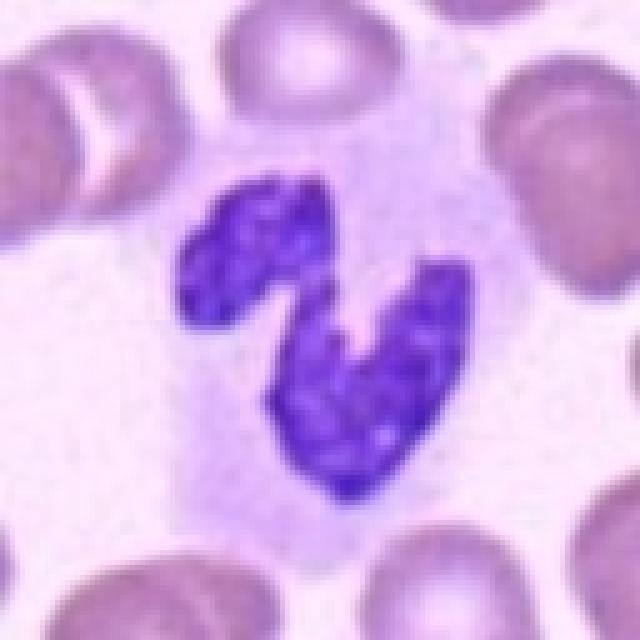neutro: (145, 88, 580, 567)
